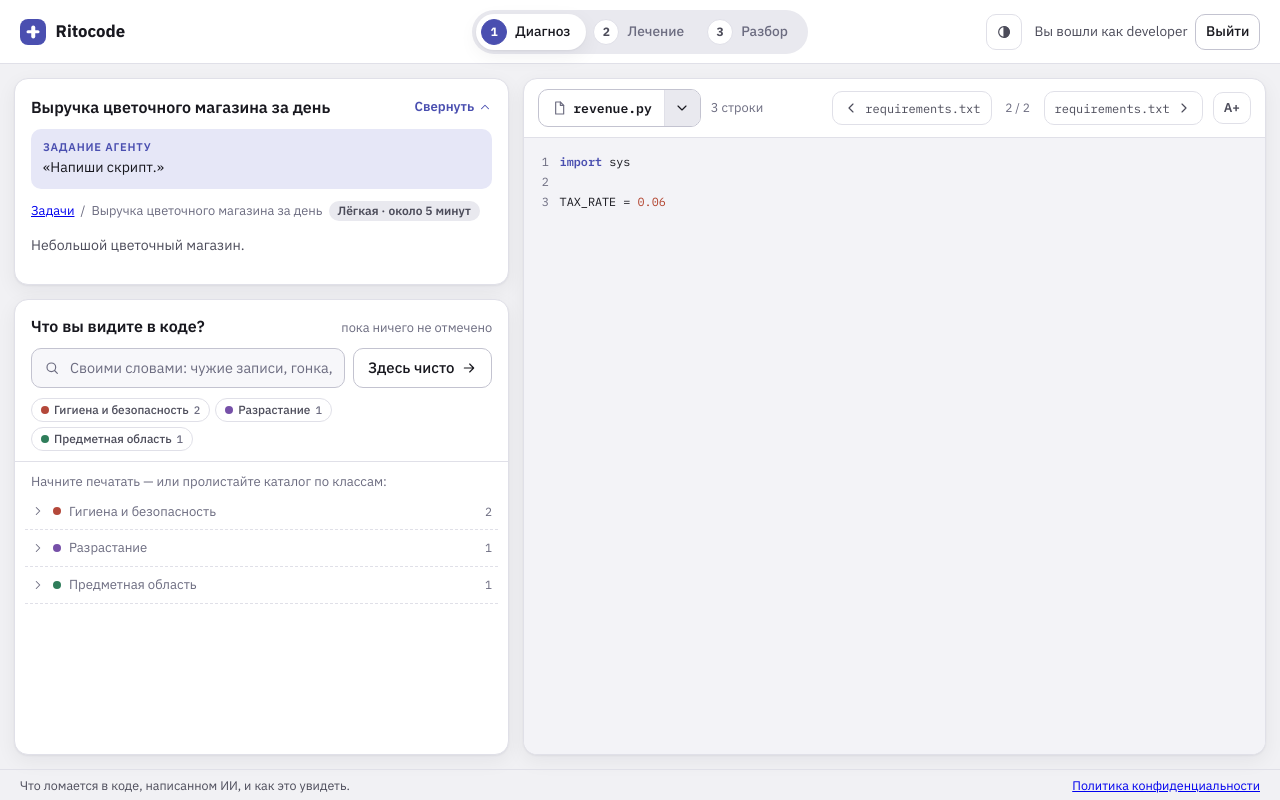
Test: the task screen › solves a task: picks, treats, checks, and lands on the result
This screenshot has width=1280, height=800.
Expected: the heading "Выручка цветочного магазина за день" is shown, [31,95,330,119]
Type "копейки" into the field named "Поиск по каталогу проблем" at (203, 368), box [68,356,338,380]
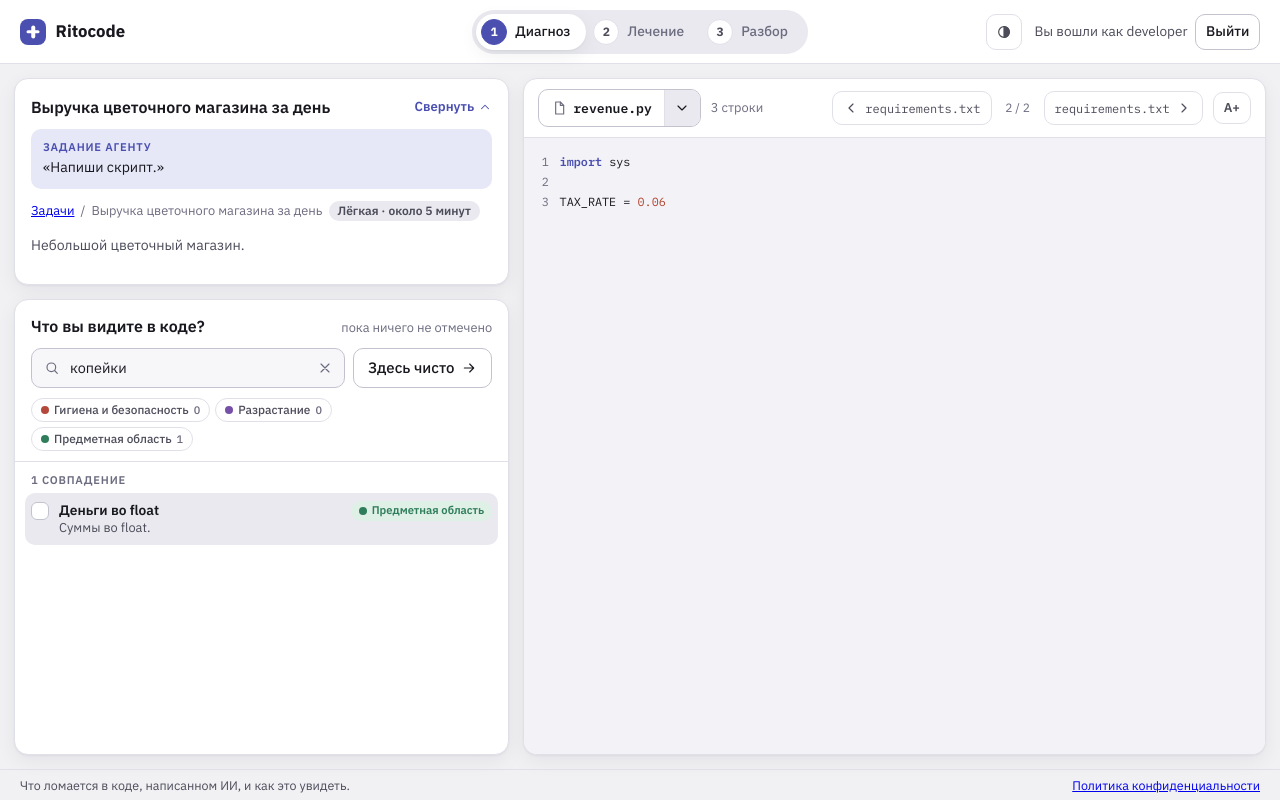
Click the checkbox labelled "Деньги во float Суммы во float. Предметная область" at (109, 510), box [25,493,498,545]
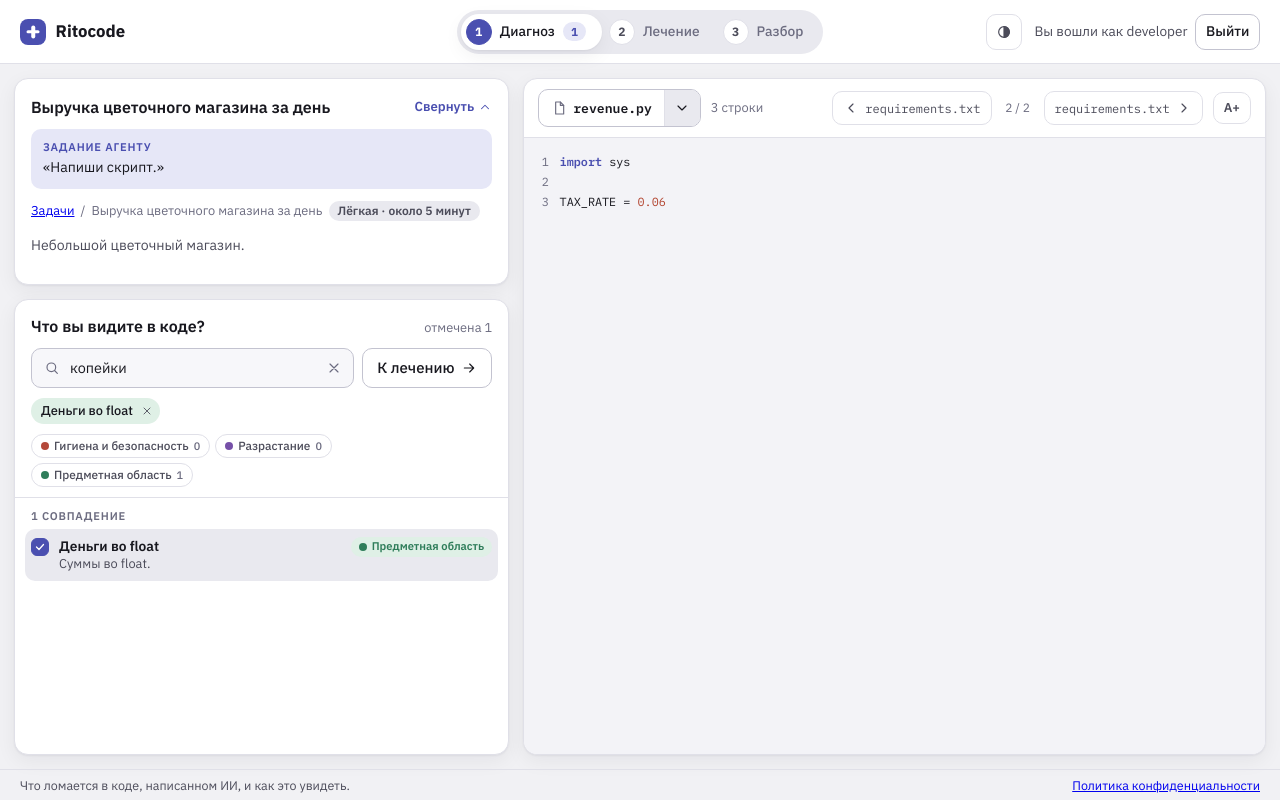
Click the button "К лечению" at (427, 368), box [362,348,492,388]
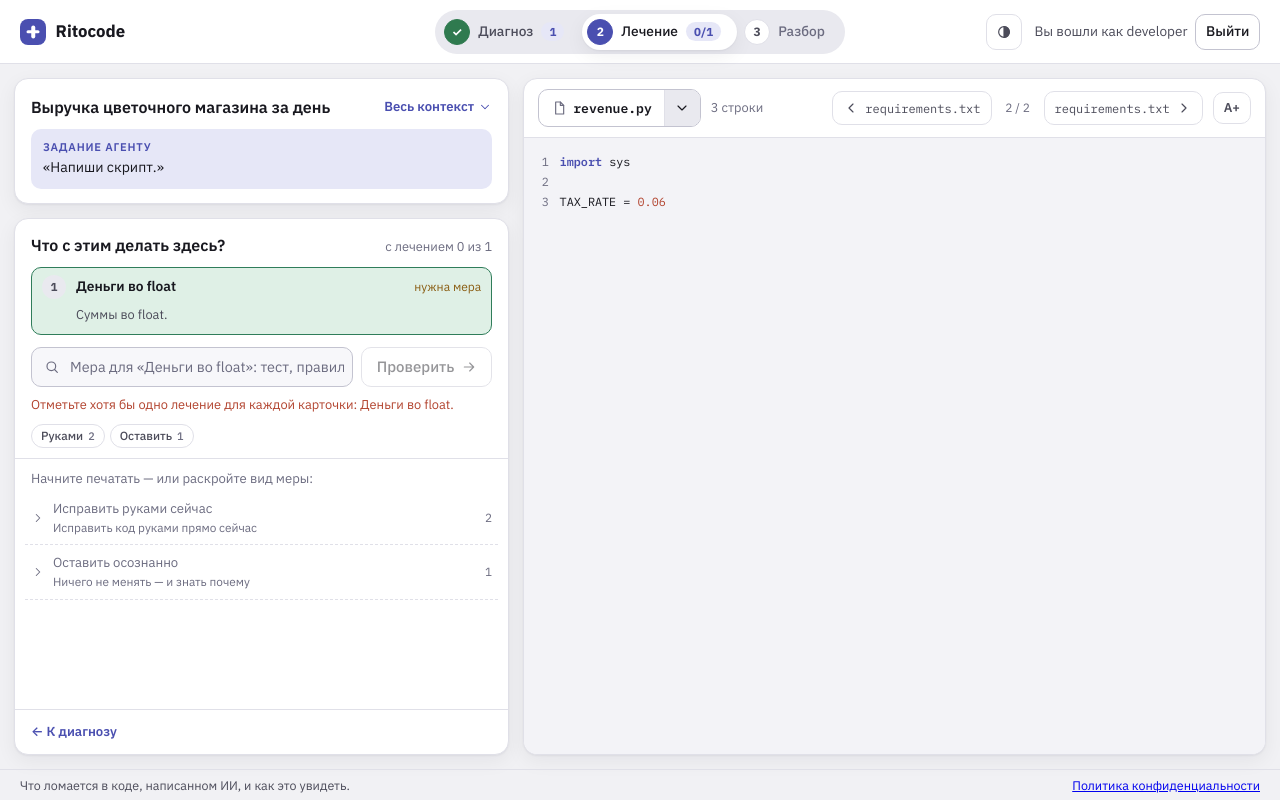
Now the button "Проверить" is disabled, box [361,347,492,387]
Now the text "Отметьте хотя бы одно лечение для каждой карточки: Деньги во float." is shown, box [31,395,492,414]
Type "представление" into the field named "Поиск по мерам лечения" at (207, 367), box [68,355,346,379]
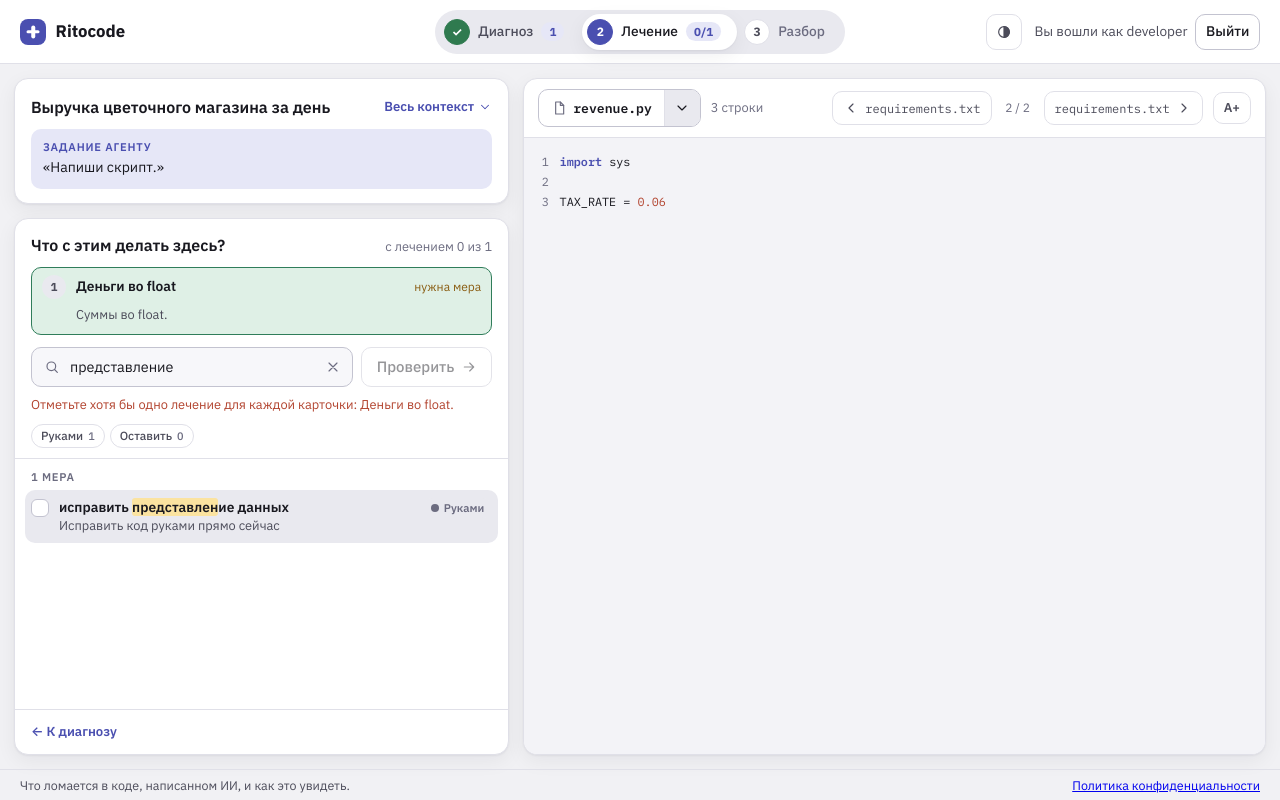
Click the checkbox at (262, 516), box [25,490,498,543]
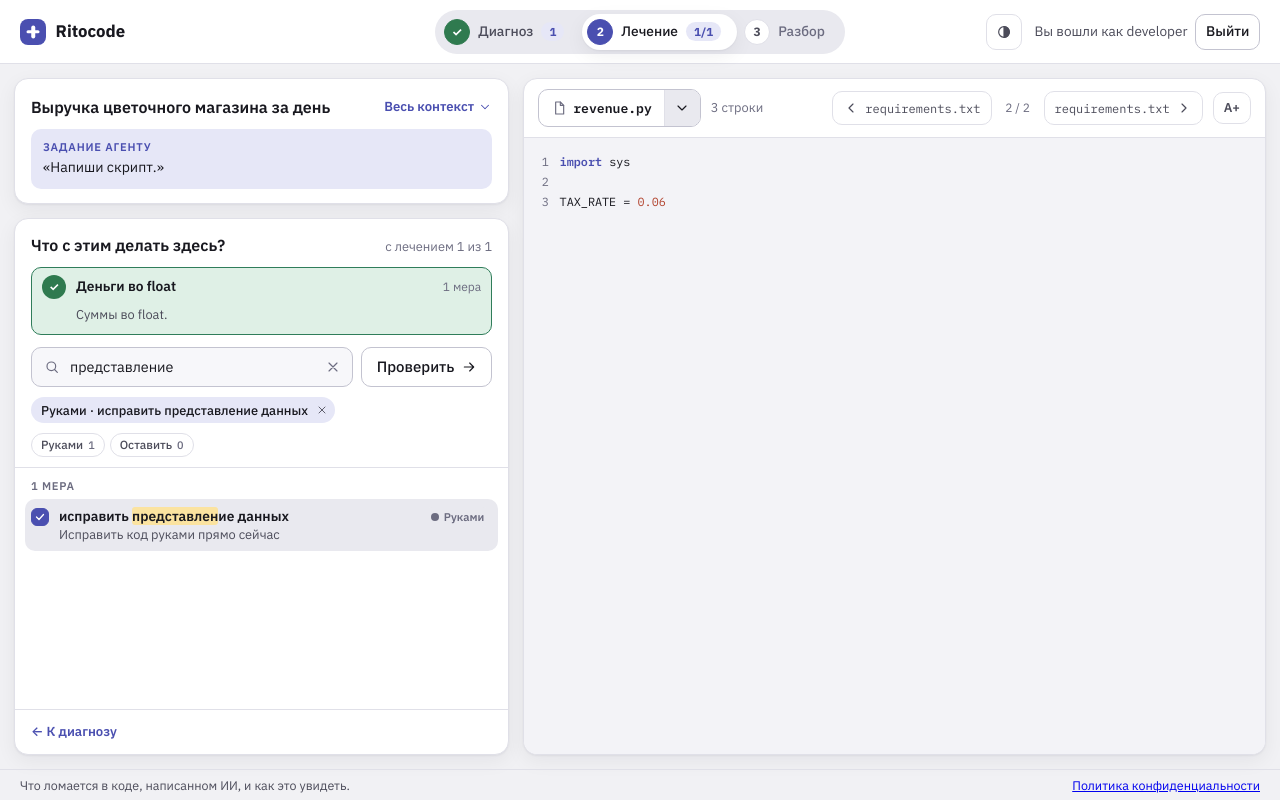
Now the button "Проверить" is enabled
Click the button "Проверить" at (427, 367), box [361,347,492,387]
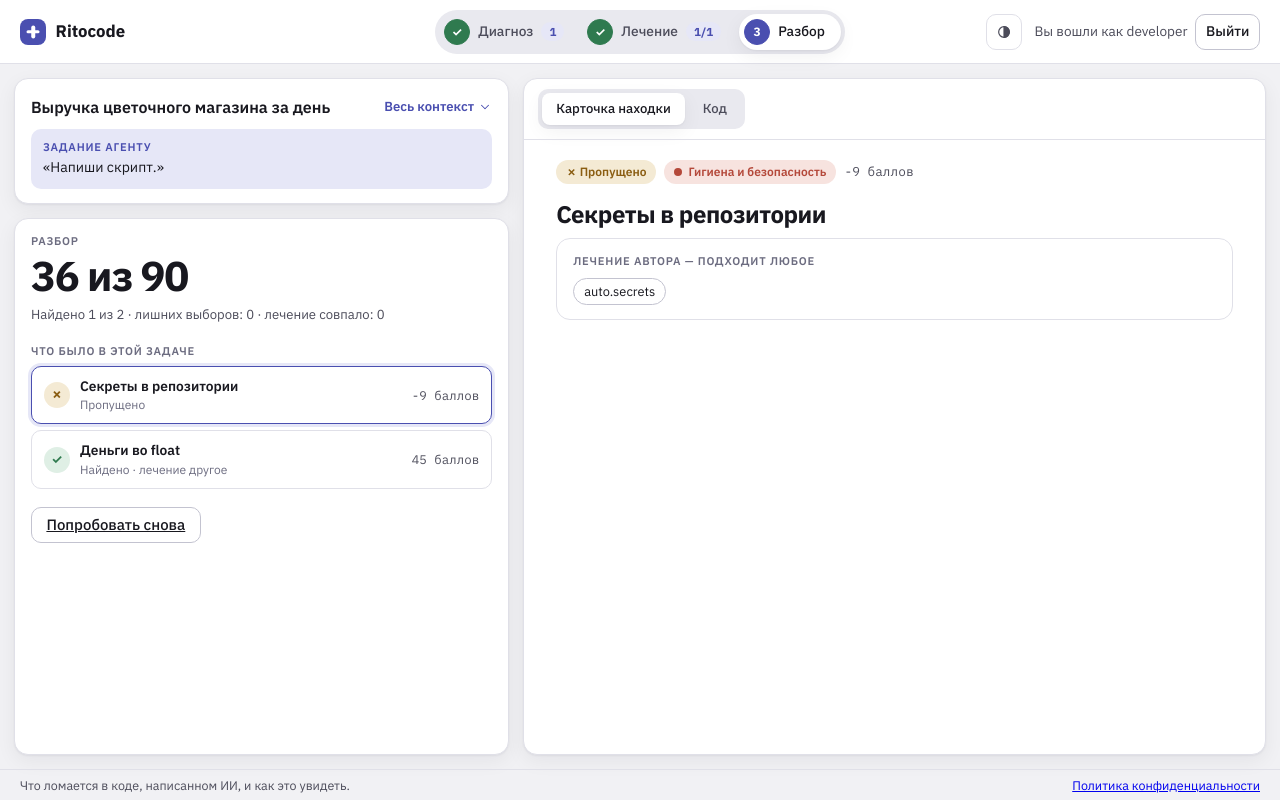
Now the text "36 из 90" is shown, box [31,248,188,302]
Now the text "Пропущено" is shown, box [80,397,145,412]
